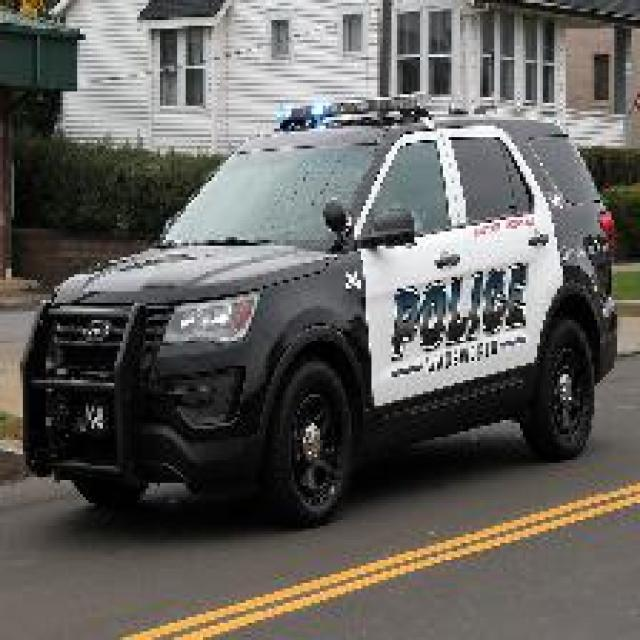emergency: (19, 107, 621, 530)
